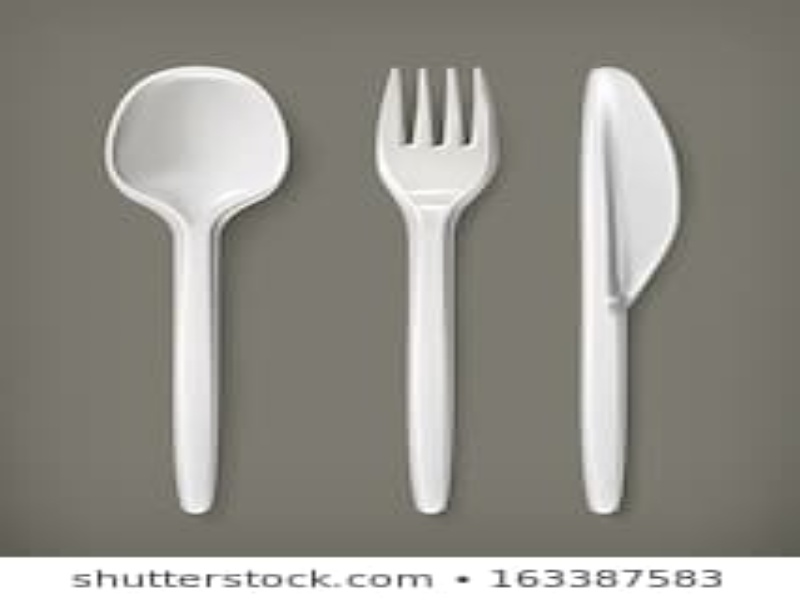plastic-silverware: (100, 59, 304, 519), (365, 57, 502, 518), (571, 60, 672, 517)
